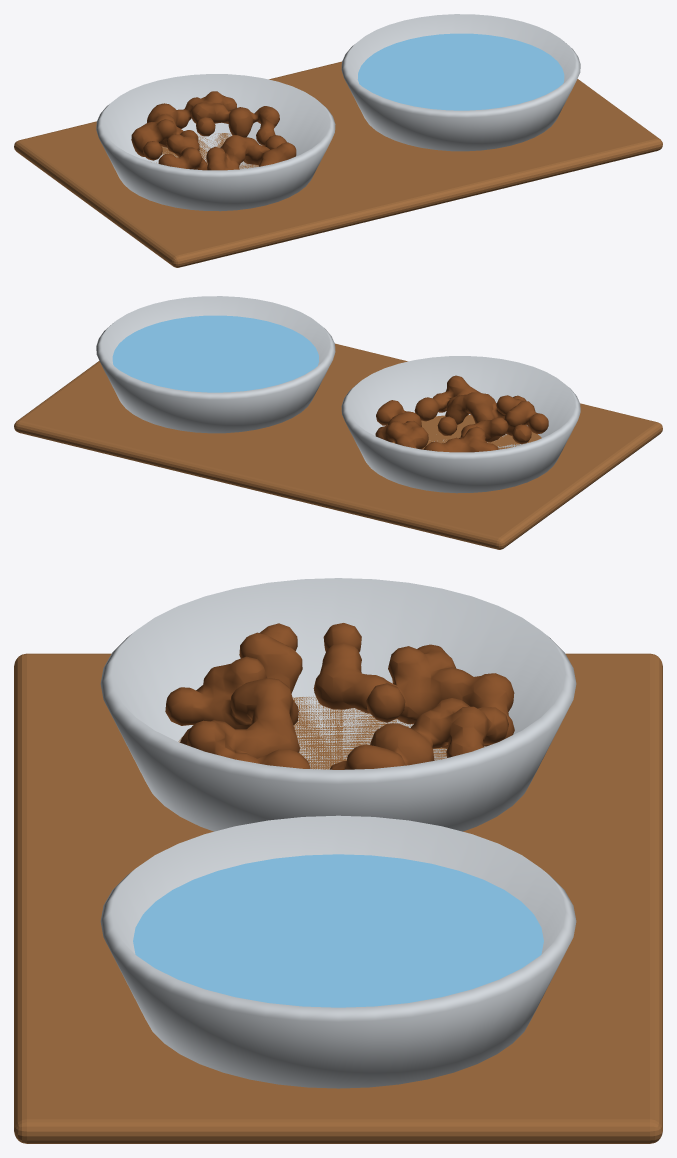
The model's file is PetBowls.fbx.
3 renders of one model, top to bottom at view 1: azimuth 30°, elevation 25°; view 2: azimuth 150°, elevation 25°; view 3: azimuth 270°, elevation 25°, orthographic. The views are drawn at different scales.
Parts seen in each view (by area): view 1: PetBowls; view 2: PetBowls; view 3: PetBowls.
Part boxes in pixels (x1,y1,x2,y2): PetBowls: (14,14,662,267); PetBowls: (14,296,662,549); PetBowls: (14,578,662,1143).
Bounding box in the file's own units: 52 × 6 × 30.
